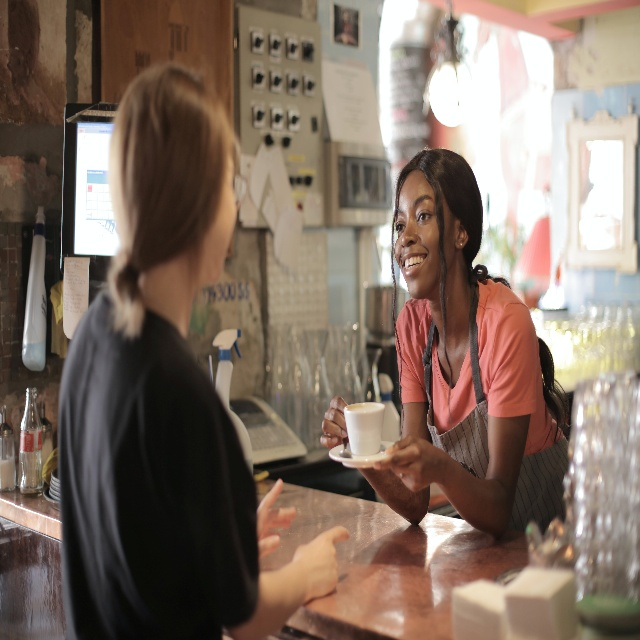Gafas: (233, 172, 247, 211)
Sin_guantes: (292, 526, 350, 604), (373, 433, 437, 493), (256, 478, 297, 558), (320, 396, 348, 448)
